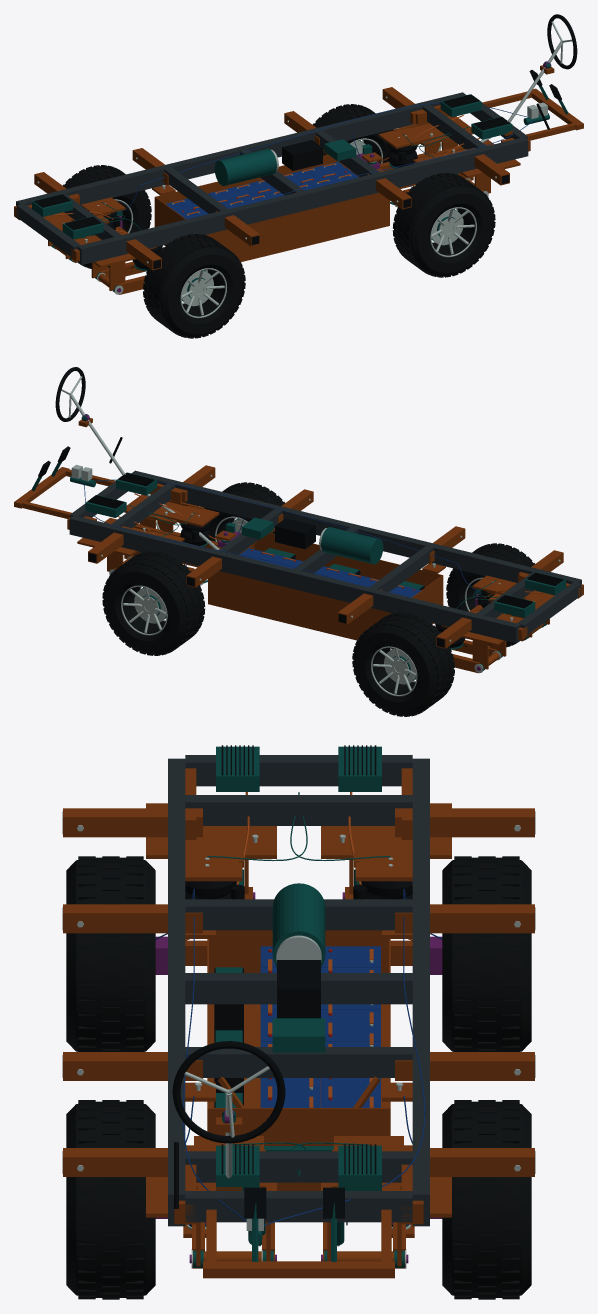
Rendered from drivetrain.obj.
3 views of the same model, one above another, from view 1: azimuth 30°, elevation 25°; view 2: azimuth 150°, elevation 25°; view 3: azimuth 270°, elevation 25° (orthographic). The views are drawn at different scales.
Visible parts, largest first — view 1: side_rail_2, side_rail_1, tire_casing_1120, tire_casing_583, enclosure_side_48, two_gallon_tank_1339, tire_casing_323, crossmember_3, crossmember_5, crossmember_8, compressor_1342, enclosure_side_47 (+25 smaller); view 2: side_rail_1, side_rail_2, tire_casing_850, tire_casing_323, enclosure_side_47, enclosure_side_48, two_gallon_tank_1339, tire_casing_583, crossmember_3, crossmember_5, crossmember_8, compressor_1342 (+20 smaller); view 3: tire_casing_323, tire_casing_583, side_rail_1, tire_casing_850, tire_casing_1120, side_rail_2, crossmember_4, crossmember_6, crossmember_9, crossmember_7, enclosure_end_50, crossmember_5 (+37 smaller).
Part boxes in pixels (x1,y1,x2,y2): side_rail_2: [77, 137, 528, 264]; side_rail_1: [16, 92, 466, 205]; tire_casing_1120: [394, 175, 494, 275]; tire_casing_583: [144, 236, 244, 336]; enclosure_side_48: [206, 192, 389, 260]; two_gallon_tank_1339: [214, 148, 276, 185]; tire_casing_323: [65, 167, 150, 267]; crossmember_3: [16, 203, 80, 258]; crossmember_5: [164, 167, 228, 213]; crossmember_8: [422, 104, 486, 149]; compressor_1342: [282, 140, 322, 170]; enclosure_side_47: [156, 155, 341, 203]; side_rail_1: [69, 515, 520, 643]; side_rail_2: [131, 470, 581, 583]; tire_casing_850: [103, 553, 203, 654]; tire_casing_323: [353, 614, 453, 715]; enclosure_side_47: [208, 571, 391, 639]; enclosure_side_48: [254, 533, 443, 605]; two_gallon_tank_1339: [321, 527, 383, 564]; tire_casing_583: [447, 545, 532, 645]; crossmember_3: [517, 582, 581, 634]; crossmember_5: [369, 546, 433, 592]; crossmember_8: [111, 483, 175, 528]; compressor_1342: [275, 518, 315, 549]; tire_casing_323: [442, 857, 531, 1051]; tire_casing_583: [66, 857, 155, 1051]; side_rail_1: [412, 758, 429, 1226]; tire_casing_850: [442, 1101, 531, 1297]; tire_casing_1120: [66, 1101, 155, 1297]; side_rail_2: [168, 758, 185, 1226]; crossmember_4: [185, 795, 412, 825]; crossmember_6: [185, 973, 412, 1004]; crossmember_9: [185, 1191, 412, 1222]; crossmember_7: [185, 1047, 412, 1077]; enclosure_end_50: [207, 1108, 390, 1190]; crossmember_5: [185, 899, 412, 930].
Bounding box in the file's own units: 3.45 × 1.26 × 1.37.
